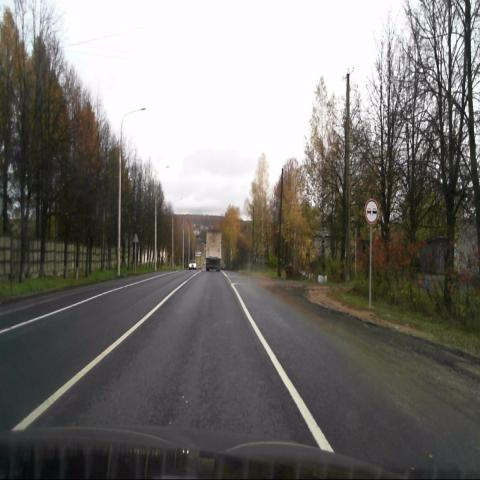3_20: (364, 199, 378, 224)
